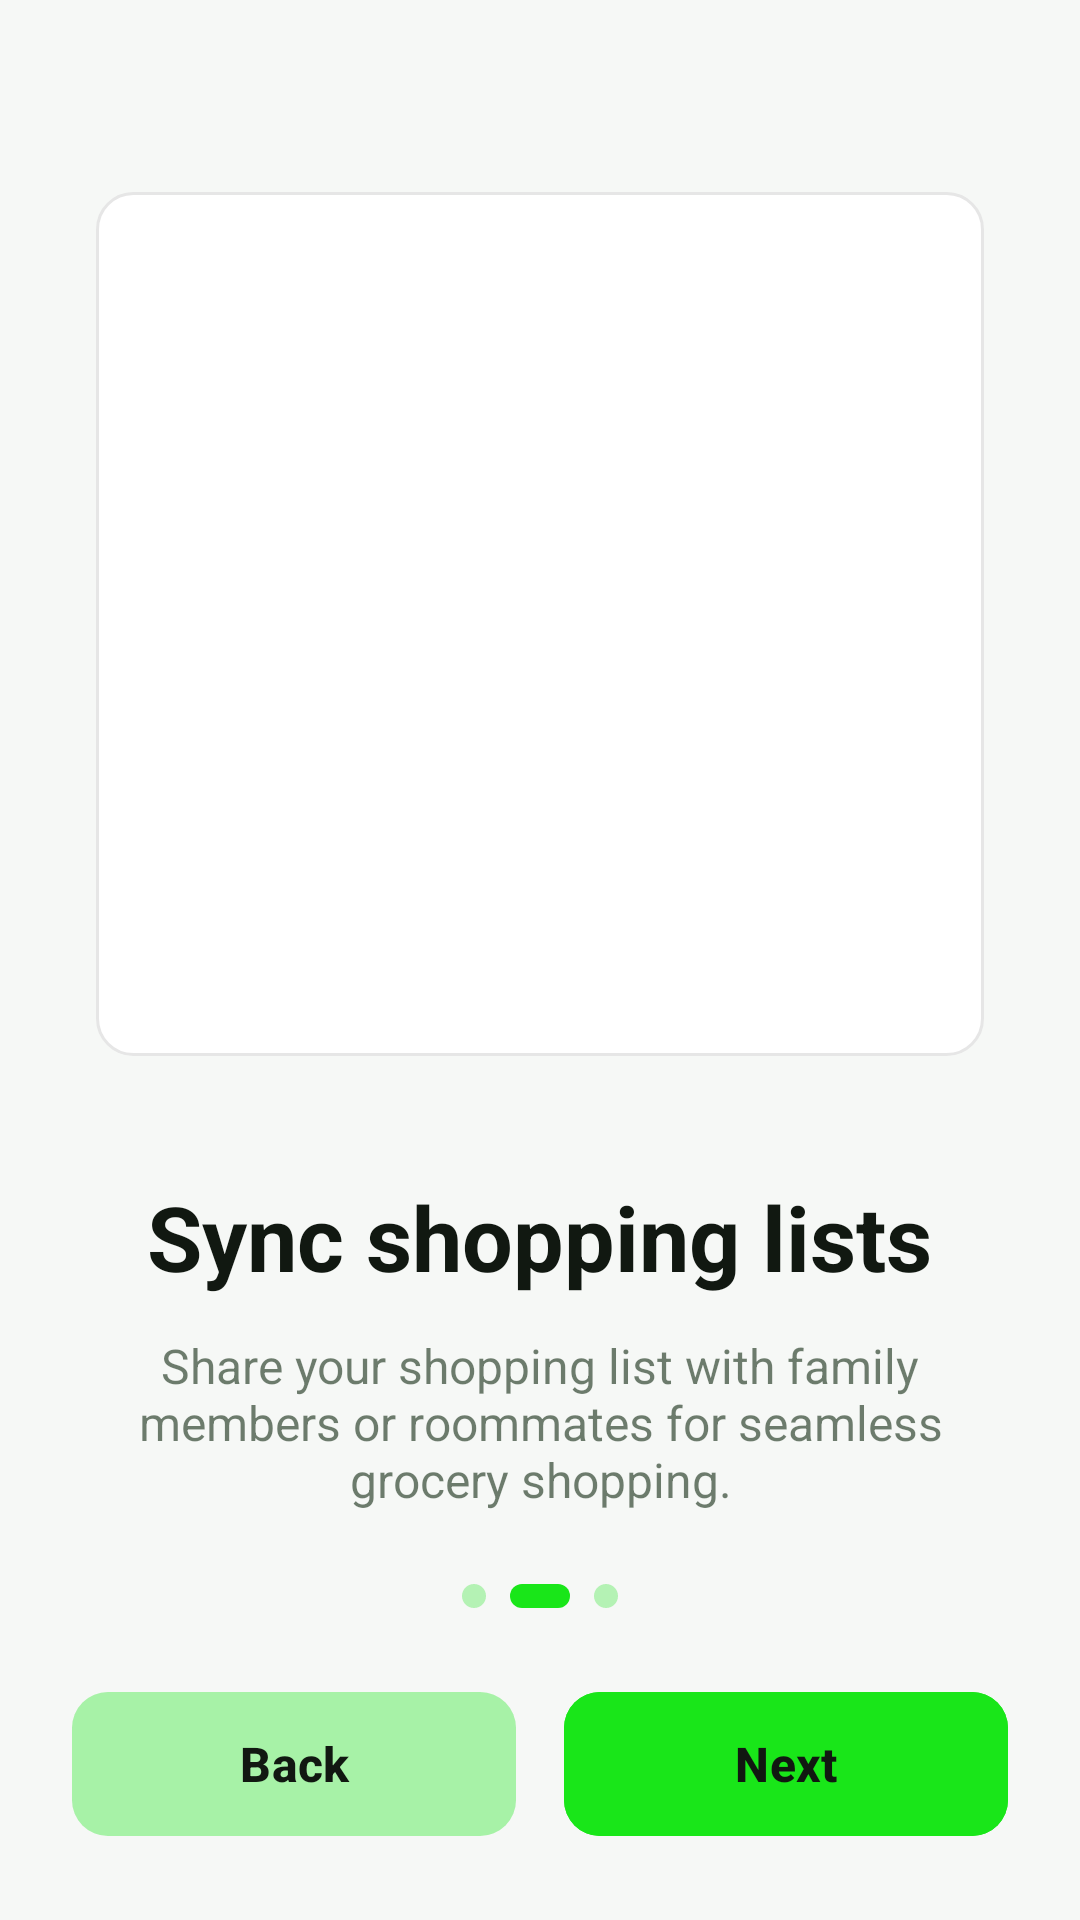

Where to tap for icons on this 1080px×1920px app screen, as (x,y):
dot: (474,1596), (606,1596)
dot wide: (540,1596)
